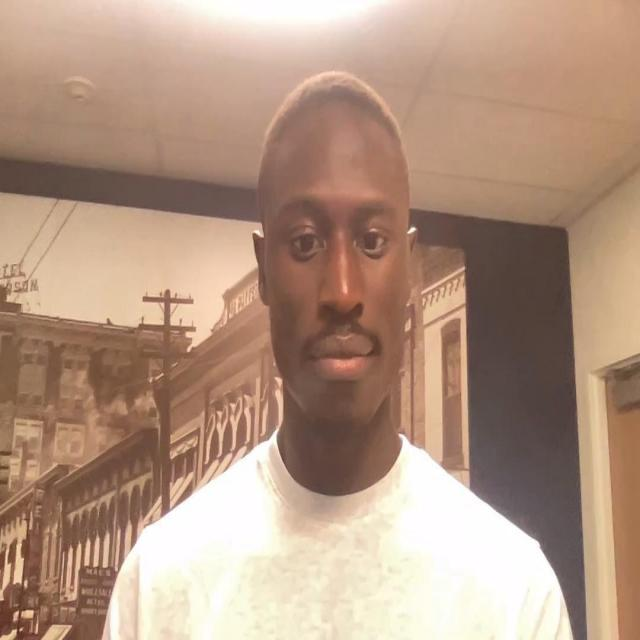face: (251, 73, 417, 435)
